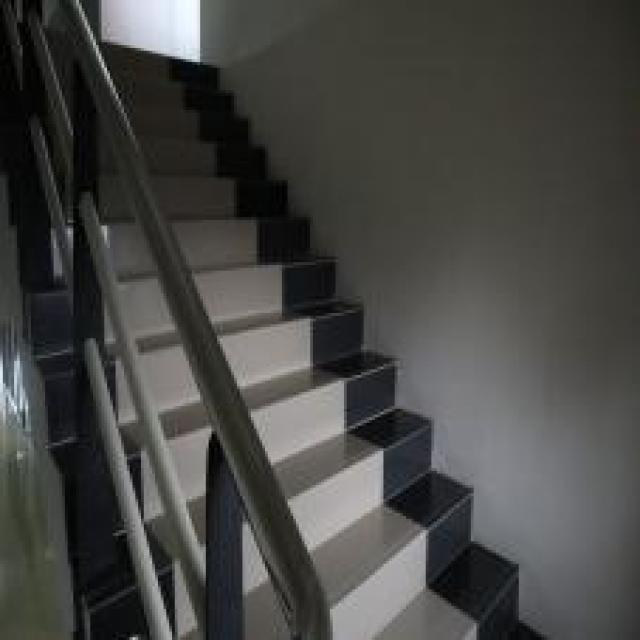upstair: (235, 255, 430, 528)
